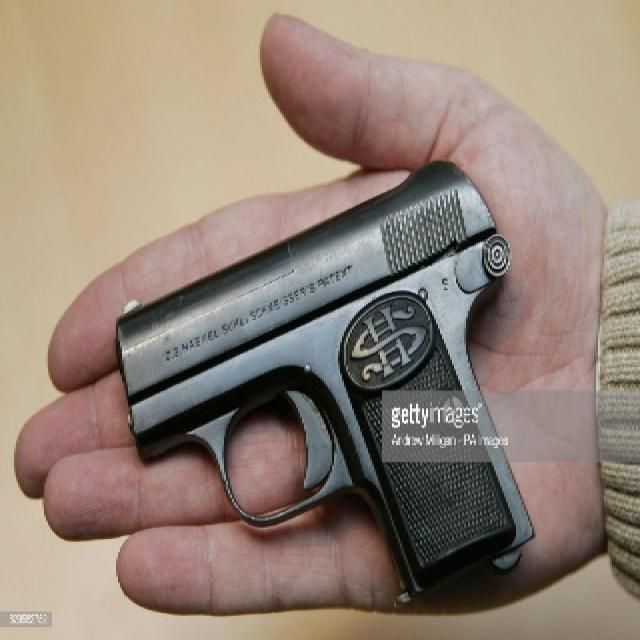handgun: (113, 158, 537, 594)
